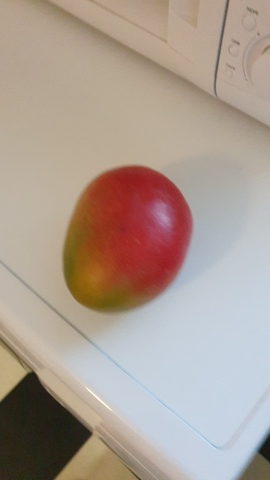Mango: (64, 167, 192, 313)
